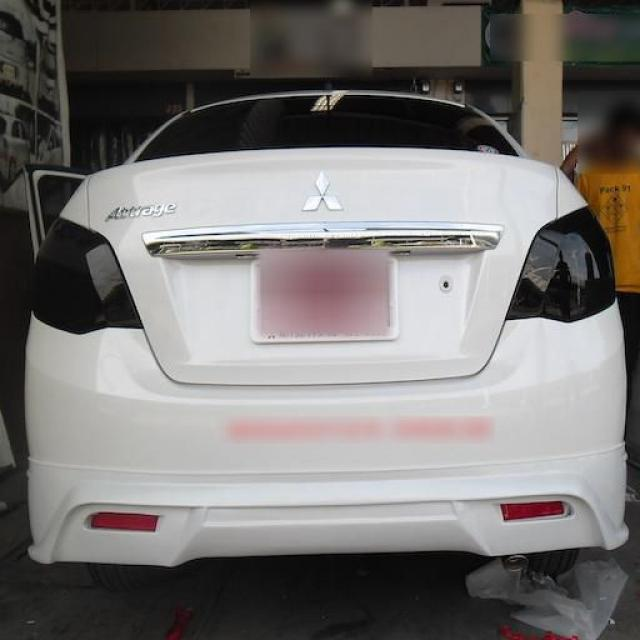back_bumper: (24, 304, 632, 567)
back_glass: (134, 95, 520, 160)
back_left_light: (34, 217, 145, 336)
back_right_light: (504, 203, 616, 324)
tailgate: (87, 147, 557, 386)
